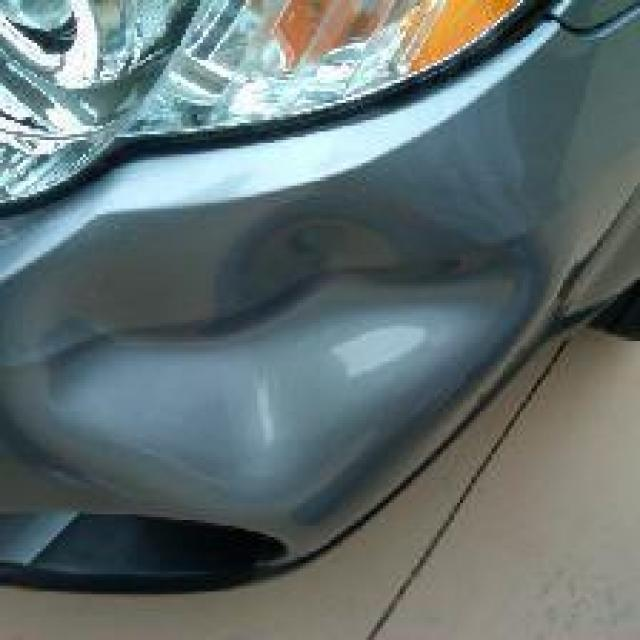damaged: (28, 195, 554, 500)
